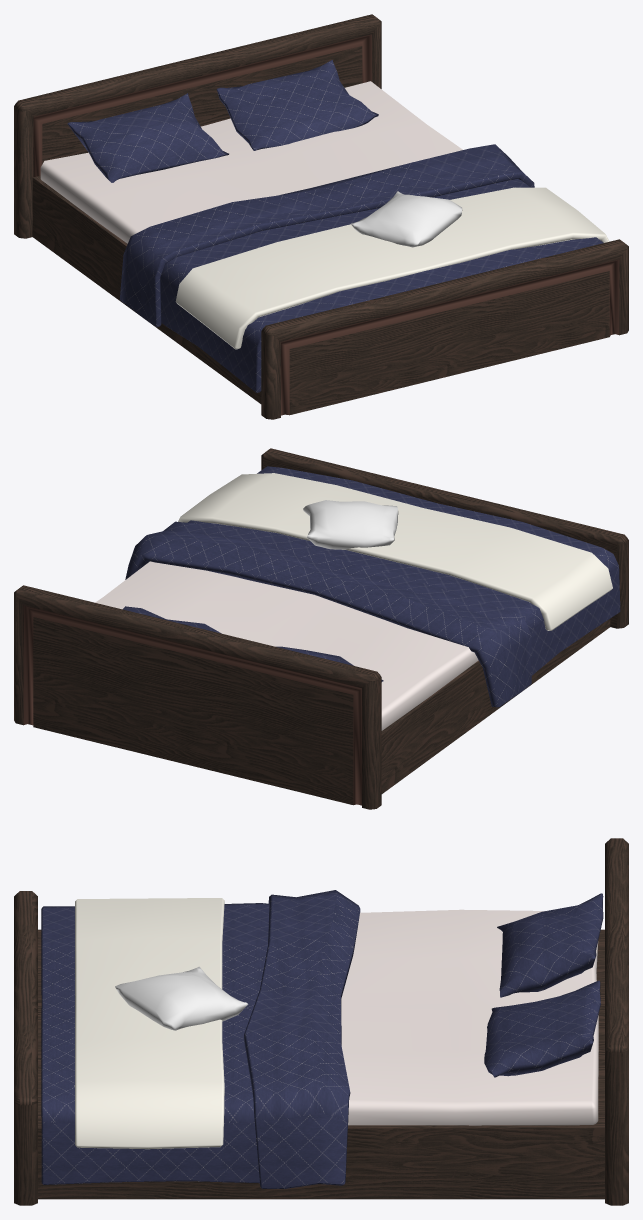
File: bed_004.fbx
The picture shows the model from 3 angles, top to bottom: view 1: azimuth 30°, elevation 25°; view 2: azimuth 150°, elevation 25°; view 3: azimuth 270°, elevation 25°; orthographic projection. The views are drawn at different scales.
Parts seen in each view (by area): view 1: bed_004; view 2: bed_004; view 3: bed_004.
Boxes of the visible parts, <box> form: bed_004: <box>14,14,628,419</box>; bed_004: <box>14,448,628,809</box>; bed_004: <box>14,838,628,1205</box>.
Bounding box in the file's own units: 271 × 310 × 88.16.
